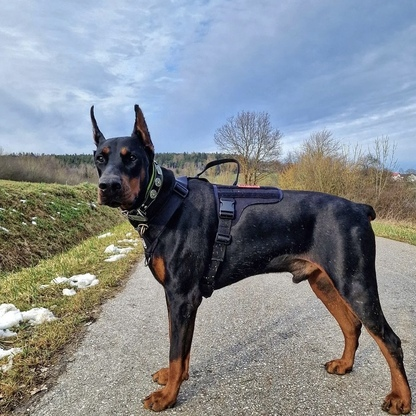doberman: (86, 101, 414, 416)
